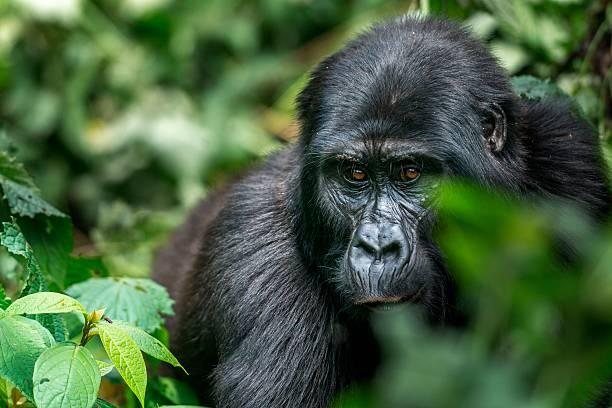goriile_montagne: (220, 37, 554, 341)
